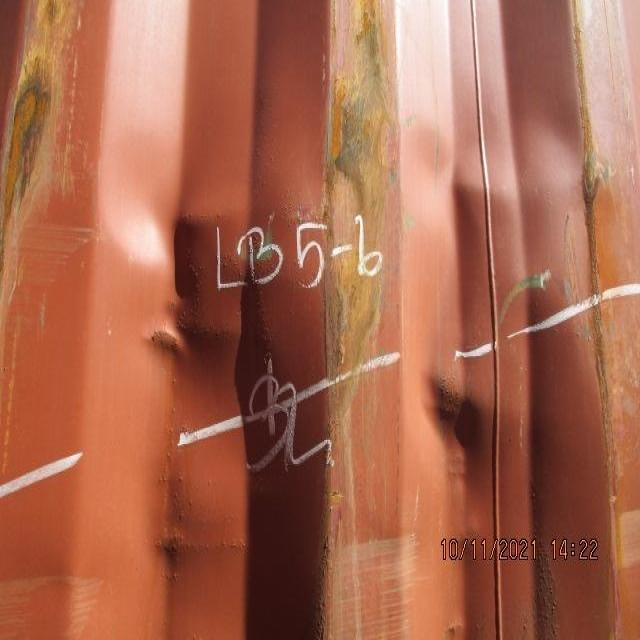dent: (77, 91, 629, 543)
